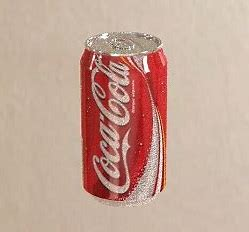Coke: (79, 29, 170, 210)
